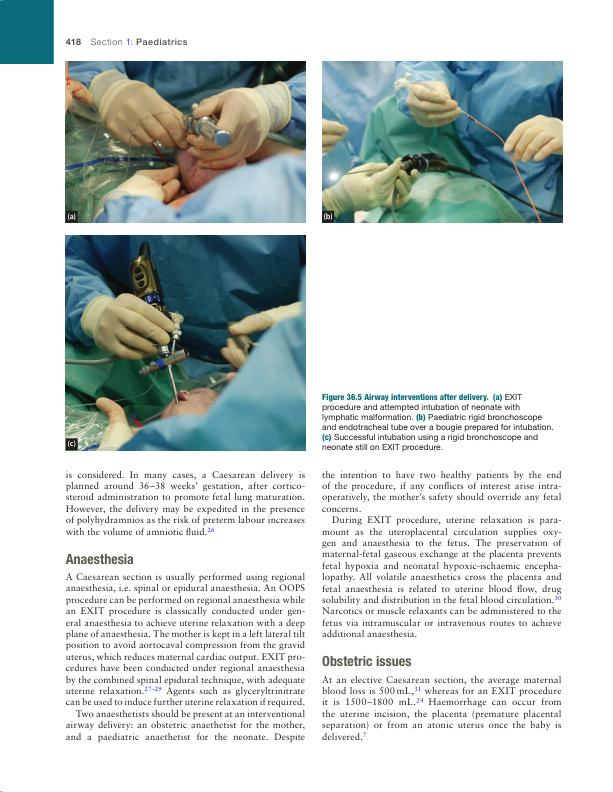caption: (321, 393, 554, 453), (67, 212, 77, 221), (67, 439, 77, 448), (323, 212, 333, 221)
header: (90, 37, 188, 47)
image: (65, 235, 306, 451), (64, 61, 306, 223), (322, 61, 563, 223)
sub-section-heading: (321, 655, 412, 668), (65, 553, 133, 565)
text: (65, 572, 306, 744), (321, 470, 563, 638), (321, 675, 562, 742), (65, 470, 305, 536)
